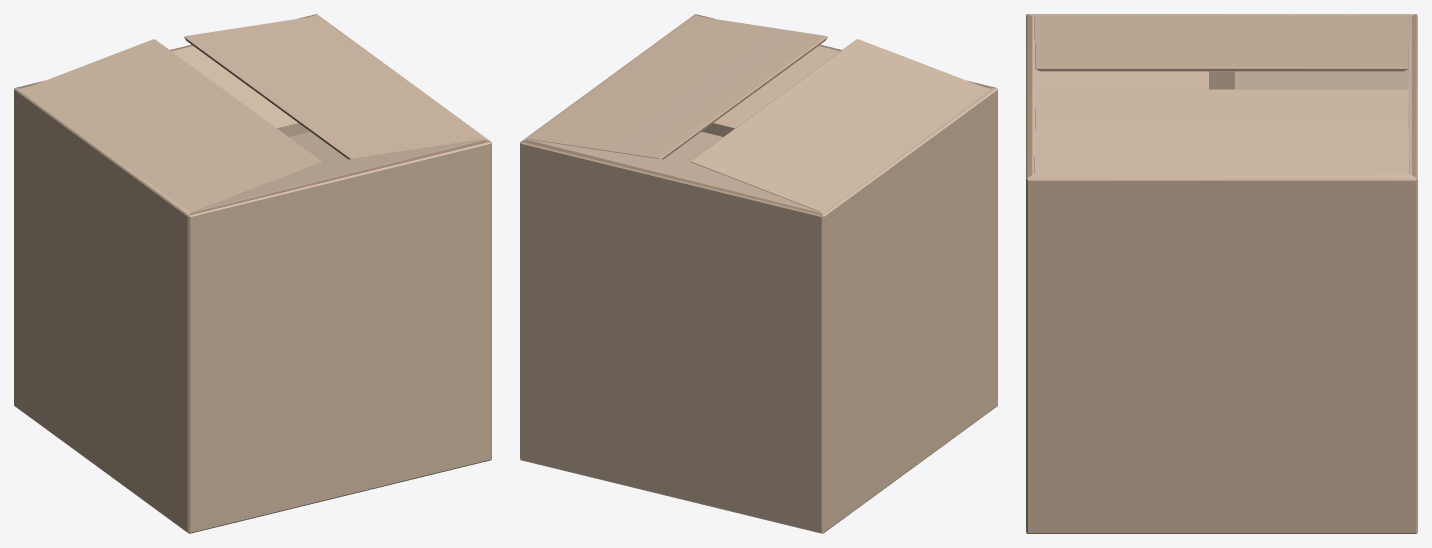
The model's file is Cardboard_Box.fbx.
3 renders of one model, left to right at view 1: azimuth 30°, elevation 25°; view 2: azimuth 150°, elevation 25°; view 3: azimuth 270°, elevation 25°, orthographic. The views are drawn at different scales.
Visible parts, largest first — view 1: Cardboard_Box; view 2: Cardboard_Box; view 3: Cardboard_Box.
Part boxes in pixels (x1=…): Cardboard_Box: x1=14, y1=14, x2=491, y2=533; Cardboard_Box: x1=520, y1=14, x2=997, y2=533; Cardboard_Box: x1=1026, y1=14, x2=1417, y2=533.
Size of the model in its own units: 72.97 by 77.21 by 72.97.
